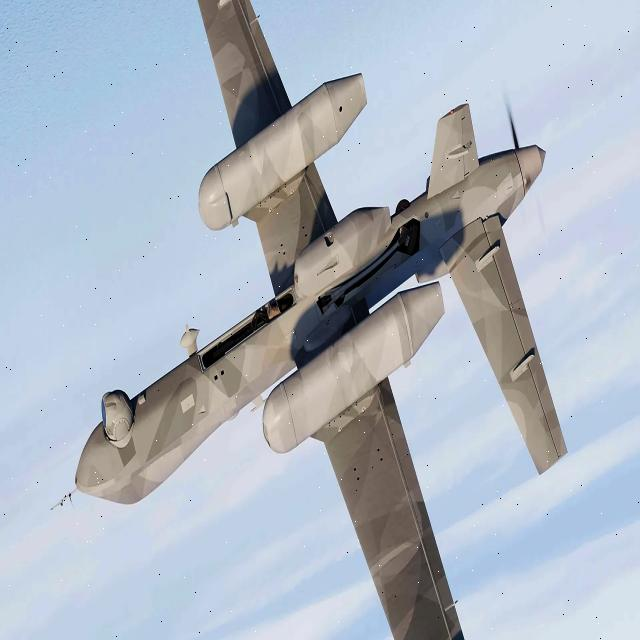MQ9: (50, 0, 605, 640)
